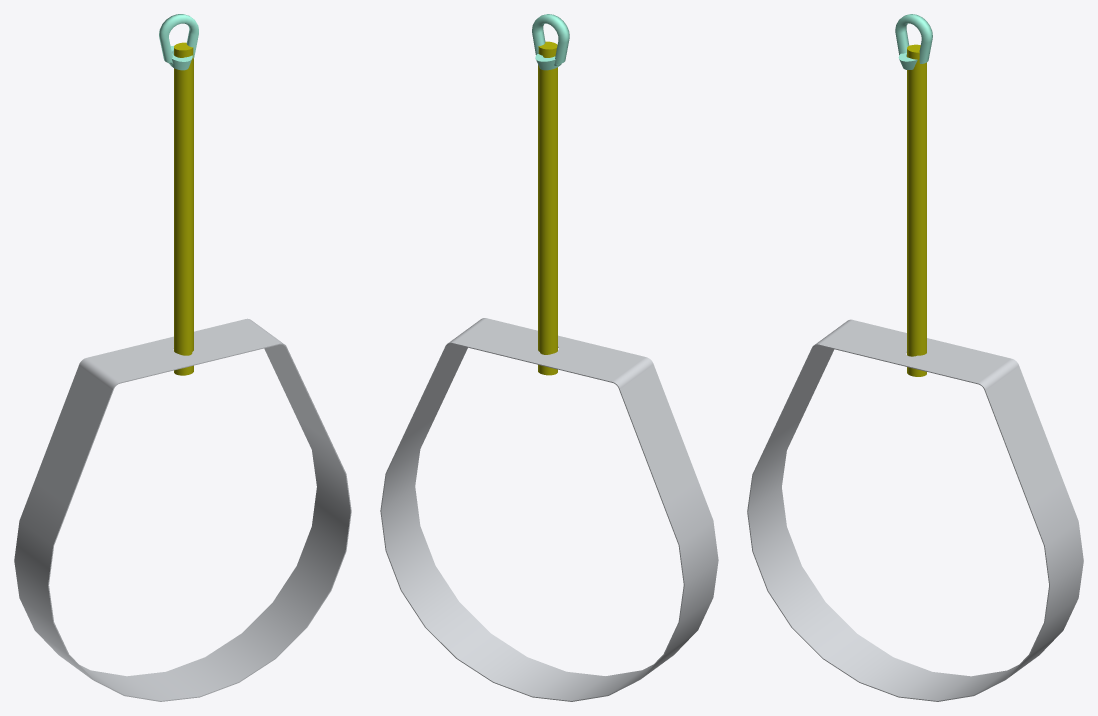
The model's file is PipeHanger.fbx.
The picture shows the model from 3 angles, left to right: view 1: azimuth 30°, elevation 25°; view 2: azimuth 150°, elevation 25°; view 3: azimuth 330°, elevation 25°; orthographic projection.
Parts seen in each view (by area): view 1: PipeHangar; view 2: PipeHangar; view 3: PipeHangar.
Part boxes in pixels (left/top/right/bottom): PipeHangar: left=14, top=14, right=351, bottom=701; PipeHangar: left=380, top=14, right=718, bottom=701; PipeHangar: left=747, top=14, right=1083, bottom=701.
Size of the model in its own units: 113 by 239 by 21.91.
